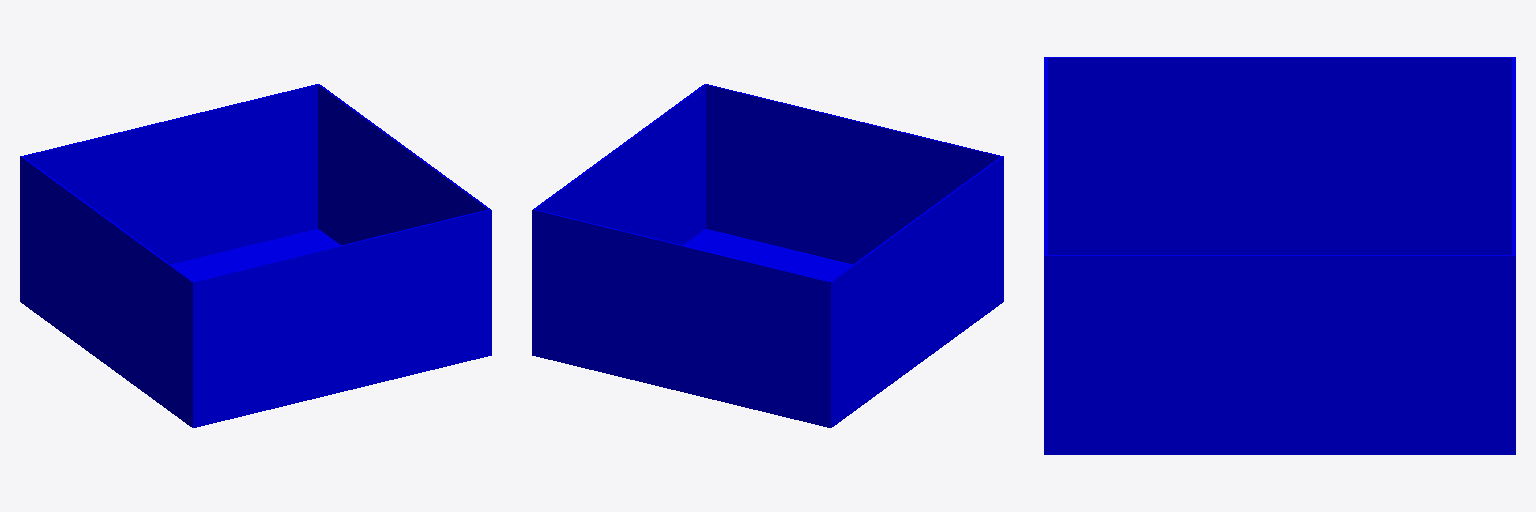
The robot description file, URDF, robot "sink":
<?xml version="1.0"?>
<robot name="sink">
  <link name="base_link">
     <visual>
      <origin xyz="0 0 -0.0345" rpy="0 0 0" />
      <geometry>
        <box size="0.15 0.15 0.001" />
      </geometry>
      <material name="blue">
        <color rgba="0 0 1 0.4" />
      </material>
    </visual>
    <visual>
      <origin xyz="0 0.0745 0" rpy="0 0 0" />
      <geometry>
        <box size="0.15 0.001 0.07" />
      </geometry>
      <material name="blue">
        <color rgba="0 0 1 0.4" />
      </material>
    </visual>
    <visual>
      <origin xyz="0 -0.0745 0" rpy="0 0 0" />
      <geometry>
        <box size="0.15 0.001 0.07" />
      </geometry>
      <material name="blue">
        <color rgba="0 0 1 0.4" />
      </material>
    </visual>
    <visual>
      <origin xyz="0.0745 0 0" rpy="0 0 0" />
      <geometry>
        <box size="0.001 0.15 0.07" />
      </geometry>
      <material name="blue">
        <color rgba="0 0 1 0.4" />
      </material>
    </visual>
    <visual>
      <origin xyz="-0.0745 0 0" rpy="0 0 0" />
      <geometry>
        <box size="0.001 0.15 0.07" />
      </geometry>
      <material name="blue">
        <color rgba="0 0 1 0.4" />
      </material>
    </visual>

    <collision>
      <origin xyz="0 0 -0.0345" rpy="0 0 0" />
      <geometry>
        <box size="0.15 0.15 0.001" />
      </geometry>
    </collision>
    <collision>
      <origin xyz="0 0.0745 0" rpy="0 0 0" />
      <geometry>
        <box size="0.15 0.001 0.07" />
      </geometry>
    </collision>
    <collision>
      <origin xyz="0 -0.0745 0" rpy="0 0 0" />
      <geometry>
        <box size="0.15 0.001 0.07" />
      </geometry>
    </collision>
    <collision>
      <origin xyz="0.0745 0 0" rpy="0 0 0" />
      <geometry>
        <box size="0.001 0.15 0.07" />
      </geometry>
    </collision>
    <collision>
      <origin xyz="-0.0745 0 0" rpy="0 0 0" />
      <geometry>
        <box size="0.001 0.15 0.07" />
      </geometry>
    </collision>
  </link>
</robot>

--- What the picture shows (computed from the rendered views, not written in the file) ---
The picture shows the robot from 3 angles, left to right: view 1: azimuth 30°, elevation 25°; view 2: azimuth 150°, elevation 25°; view 3: azimuth 270°, elevation 25°; orthographic projection.
Robot: sink — 1 links, 0 joints (none); root link base_link; default pose: every joint at zero.
Visible links, largest first — view 1: base_link; view 2: base_link; view 3: base_link.
Boxes of the visible links, x1,y1,x2,y2 form: base_link: (20,84,491,427); base_link: (532,84,1003,427); base_link: (1044,57,1515,454).
Size in the robot's own frame: 0.15 by 0.15 by 0.07 metres.
Geometry: primitives only (box / cylinder / sphere), no mesh files.